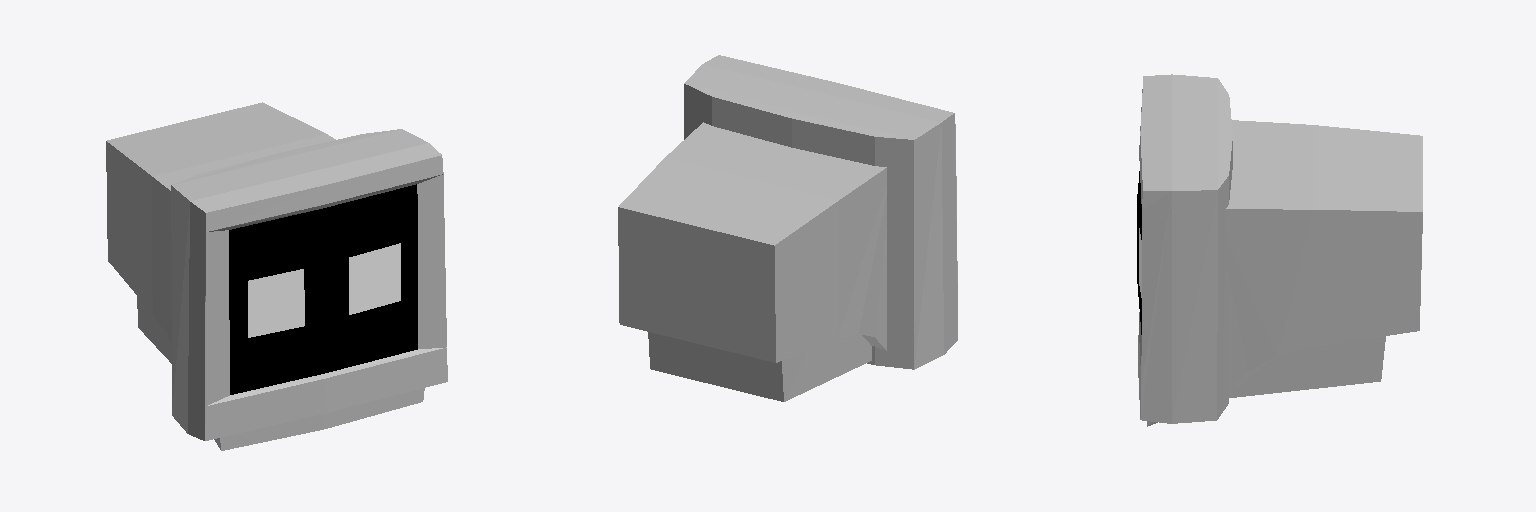
3 views of the same model, side by side, from view 1: azimuth 30°, elevation 25°; view 2: azimuth 150°, elevation 25°; view 3: azimuth 270°, elevation 25° (orthographic).
Parts seen in each view (by area): view 1: monitor02_reference; view 2: monitor02_reference; view 3: monitor02_reference.
Boxes of the visible parts, x1=… form: monitor02_reference: x1=106, y1=102, x2=447, y2=450; monitor02_reference: x1=618, y1=55, x2=957, y2=401; monitor02_reference: x1=1137, y1=74, x2=1422, y2=426.
Bounding box in the file's own units: 22.36 × 21.57 × 22.7.
2 materials, 1 textured.